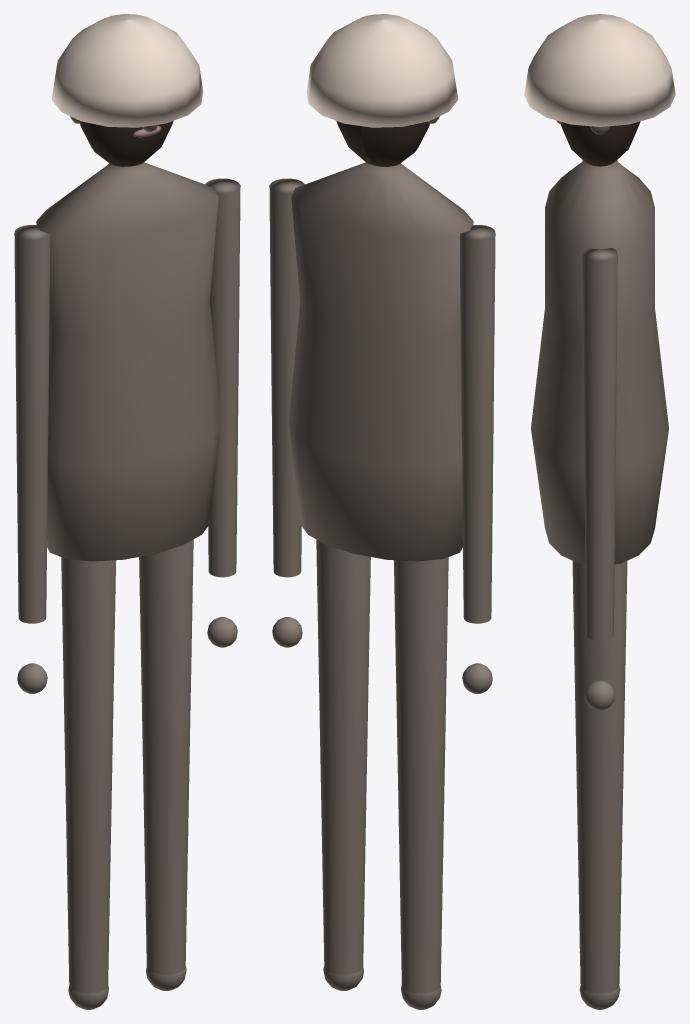
Rendered from avatar_mesh.glb.
3 renders of one model, left to right at view 1: azimuth 30°, elevation 25°; view 2: azimuth 150°, elevation 25°; view 3: azimuth 270°, elevation 25°, orthographic.
Visible parts, largest first — view 1: avatar; view 2: avatar; view 3: avatar.
Part boxes in pixels (bbox=[...]): avatar: bbox=[14, 14, 240, 1009]; avatar: bbox=[269, 14, 495, 1009]; avatar: bbox=[524, 14, 675, 1009].
Size of the model in its own units: 0.3314 by 1.4 by 0.1982.
6 materials, 1 textured.
